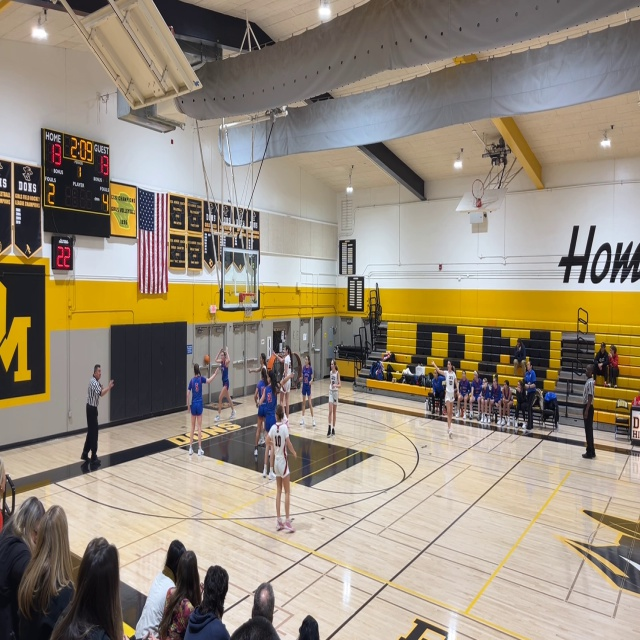Basketball: (204, 355, 210, 364)
